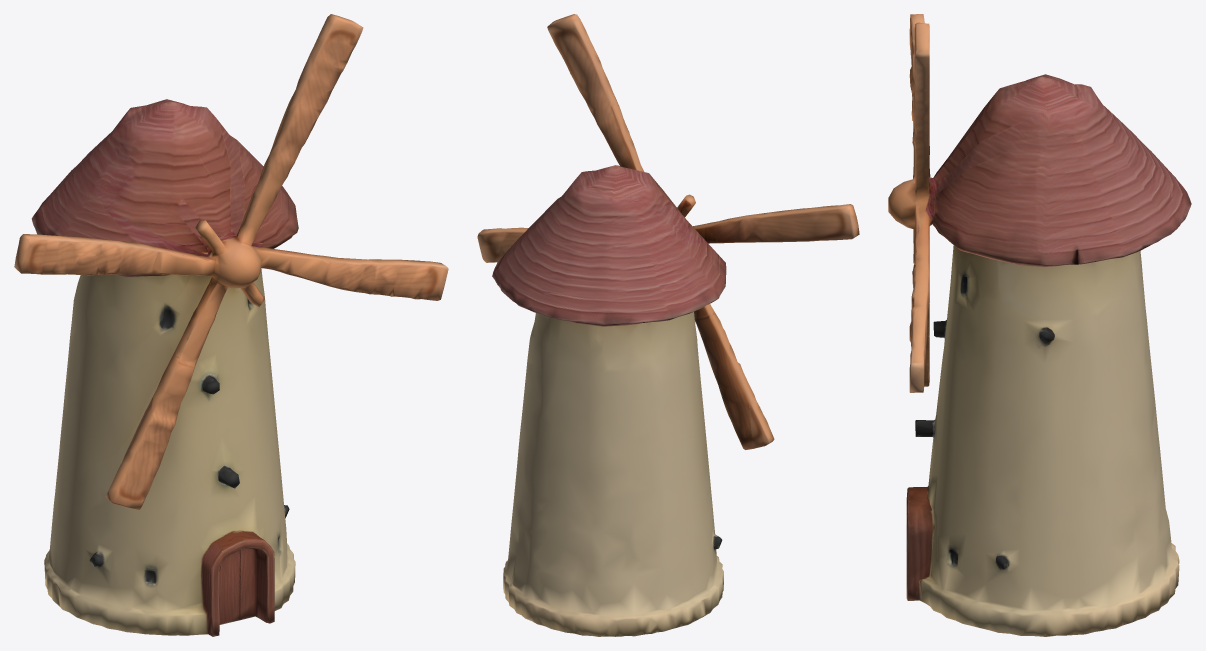
The model's file is Windmill.fbx.
The picture shows the model from 3 angles, left to right: view 1: azimuth 30°, elevation 25°; view 2: azimuth 150°, elevation 25°; view 3: azimuth 270°, elevation 25°; orthographic projection. The views are drawn at different scales.
Visible parts, largest first — view 1: input; view 2: input; view 3: input.
Part boxes in pixels (box(x1,y1,x2,y2)): input: box(14, 14, 448, 636); input: box(477, 14, 859, 636); input: box(888, 14, 1191, 636).
Bounding box in the file's own units: 614 × 800 × 359.
1 material, 1 textured.
